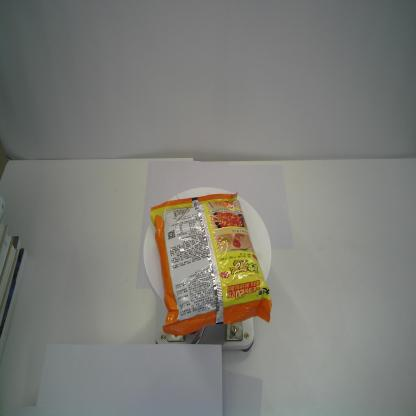Instant Noodles: (150, 192, 272, 336)
